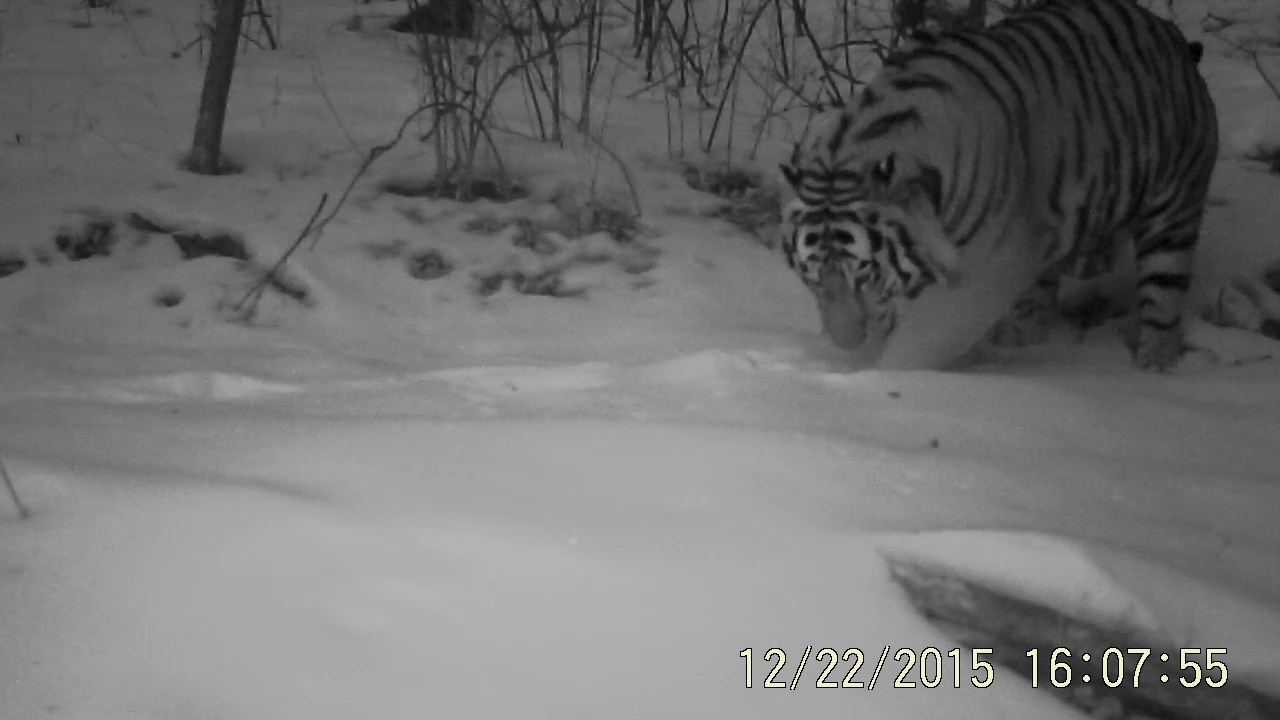Tiger: (727, 2, 1280, 464)
